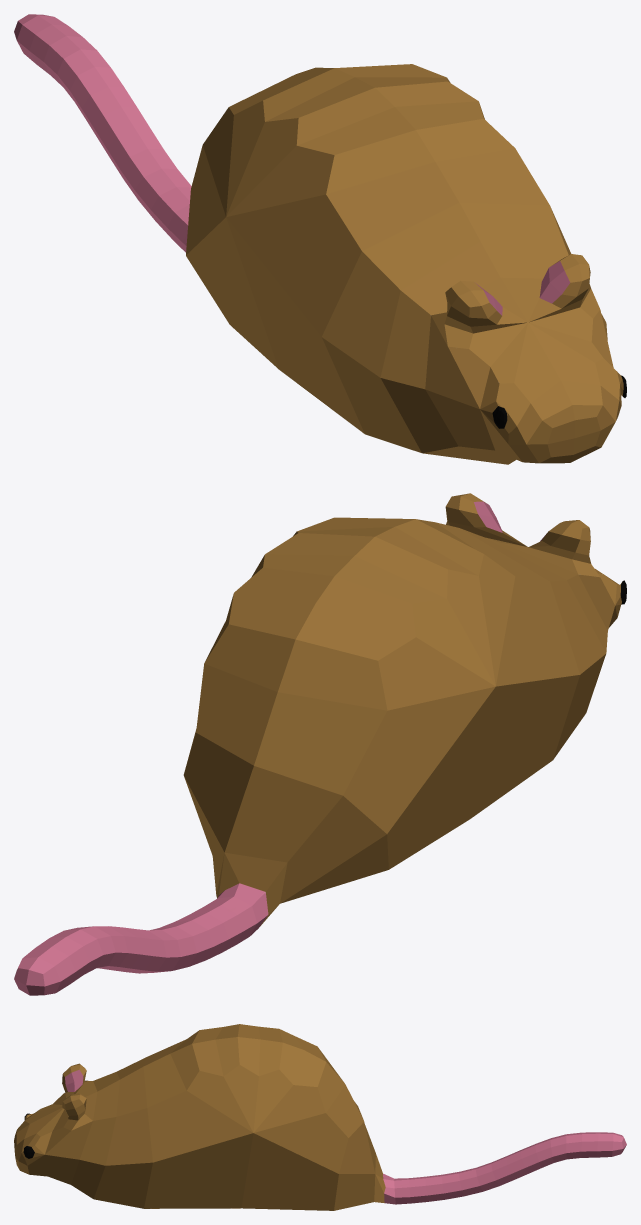
The model's file is rat.fbx.
3 views of the same model, one above another, from view 1: azimuth 30°, elevation 25°; view 2: azimuth 150°, elevation 25°; view 3: azimuth 270°, elevation 25° (orthographic). The views are drawn at different scales.
Visible parts, largest first — view 1: Rat; view 2: Rat; view 3: Rat.
Part boxes in pixels (x1,y1,x2,y2): Rat: (14, 14, 626, 464); Rat: (14, 493, 626, 995); Rat: (14, 1024, 626, 1210).
Size of the model in its own units: 108 by 118 by 382.
